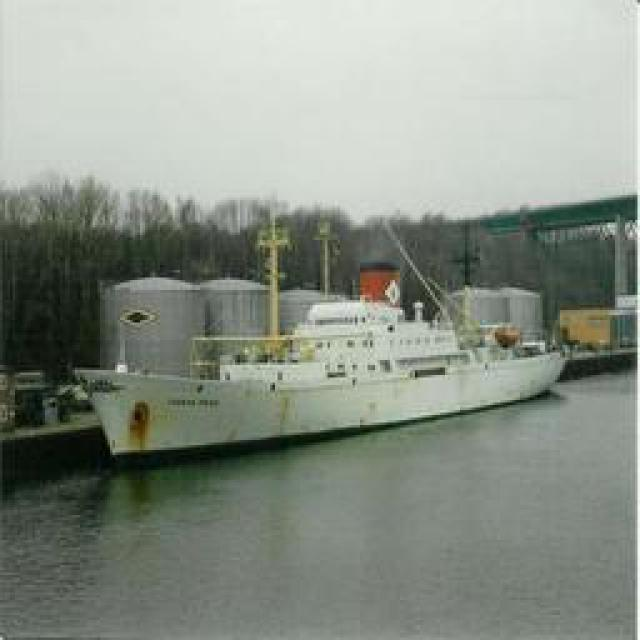Ship: (82, 256, 565, 471)
